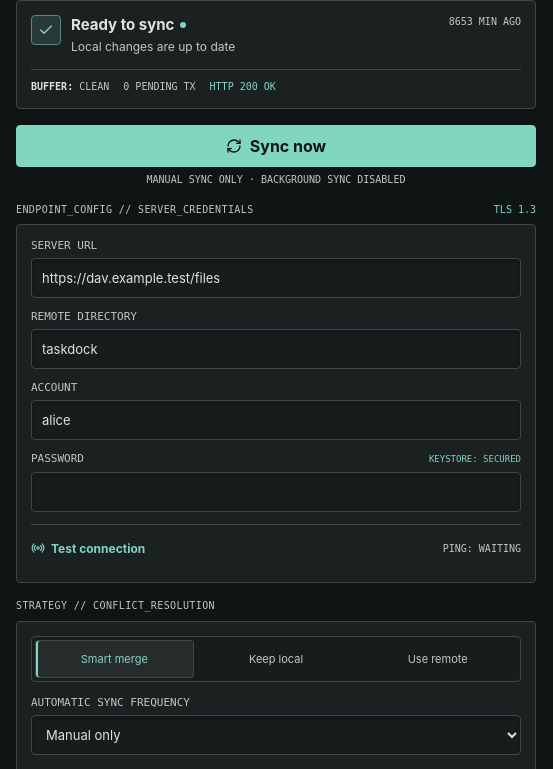
Test case: shows an immediate testing state and blocks duplicate connection taps
Click the button "Test connection": click(88, 548) [31,528,145,568]
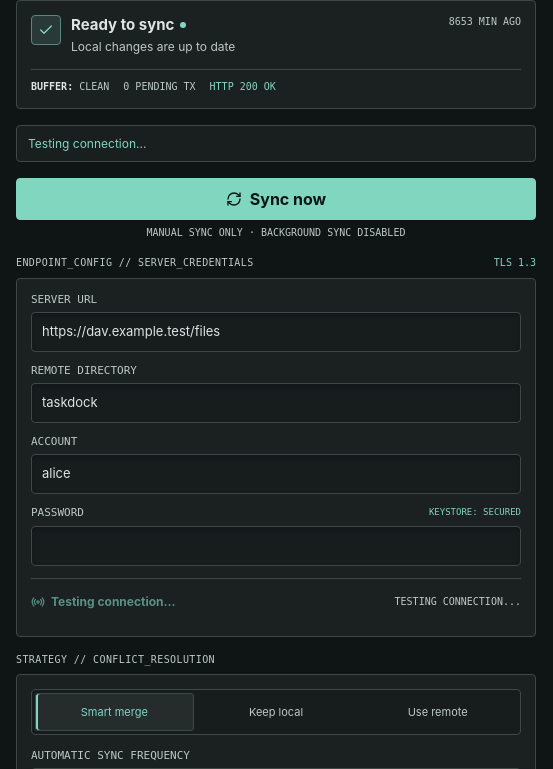
Expected: the button "Testing connection..." is disabled
Expected: the message "Testing connection..." is shown, [16,125,536,162]
Click the button "Testing connection...": click(103, 602) [31,582,176,622]
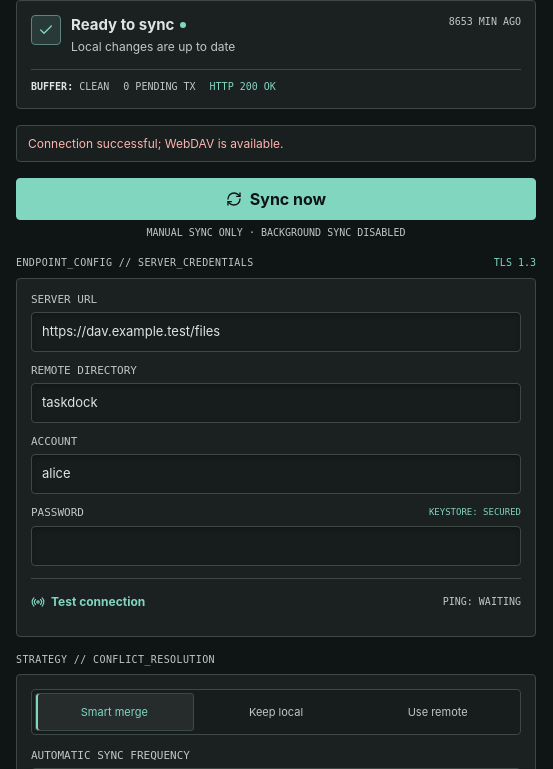
Expected: the button "Test connection" is enabled, [31,582,145,622]
Expected: the message "Connection successful; WebDAV is available." is shown, [16,125,536,162]
